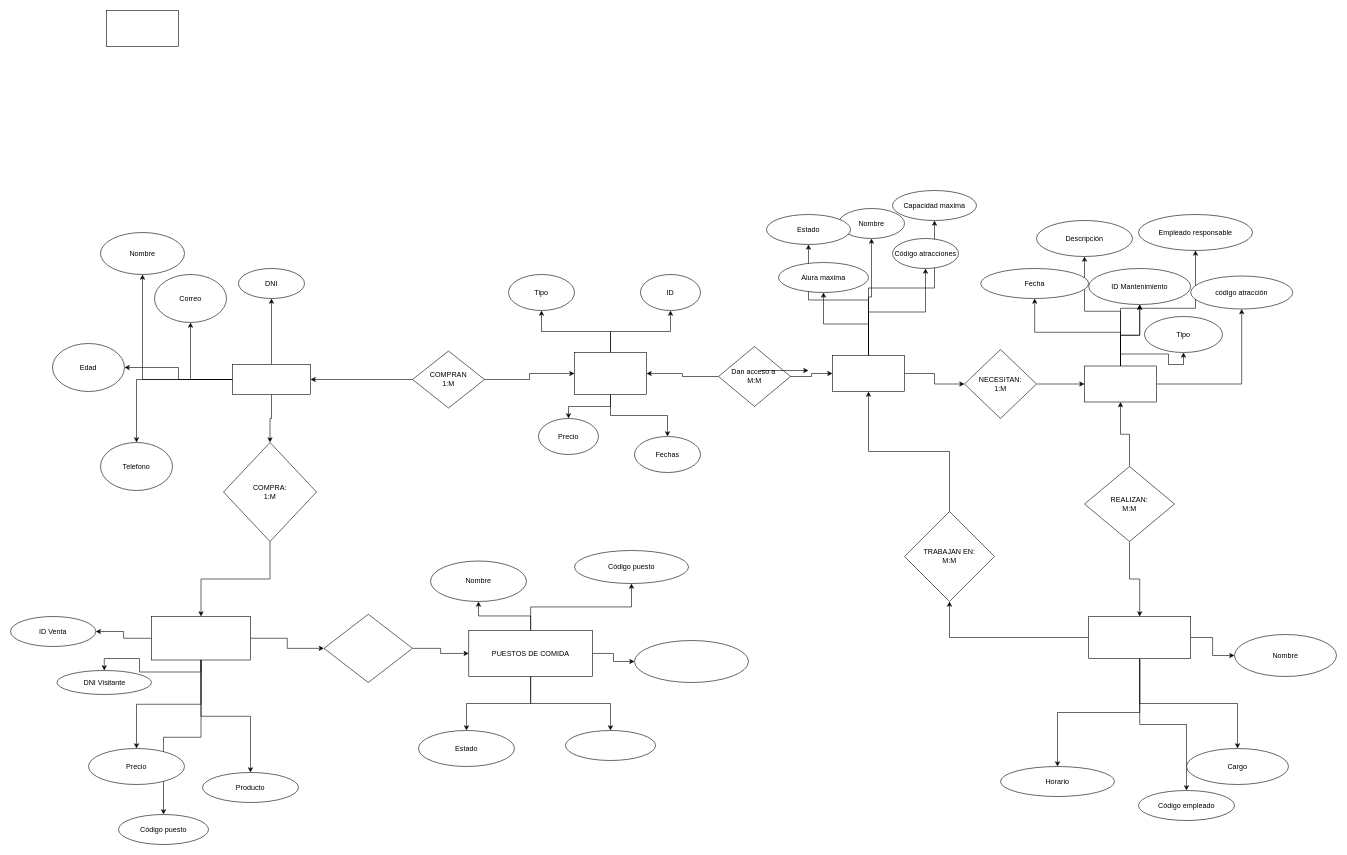
This 1347x855 diagram has some shape labels left out. Each missing label, with the centre of its shape:
ATRACCIONES: pixel 868 373
EMPLEADOS: pixel 1139 637
ENTRADAS: pixel 610 373
MANTENIMIENTO: pixel 1120 383
OFRECEN: 1:M: pixel 367 648
Tipo de comida: pixel 691 661
Ubicación: pixel 610 745
VENTAS DE COMIDA: pixel 200 638
VISITANTES: pixel 271 379
